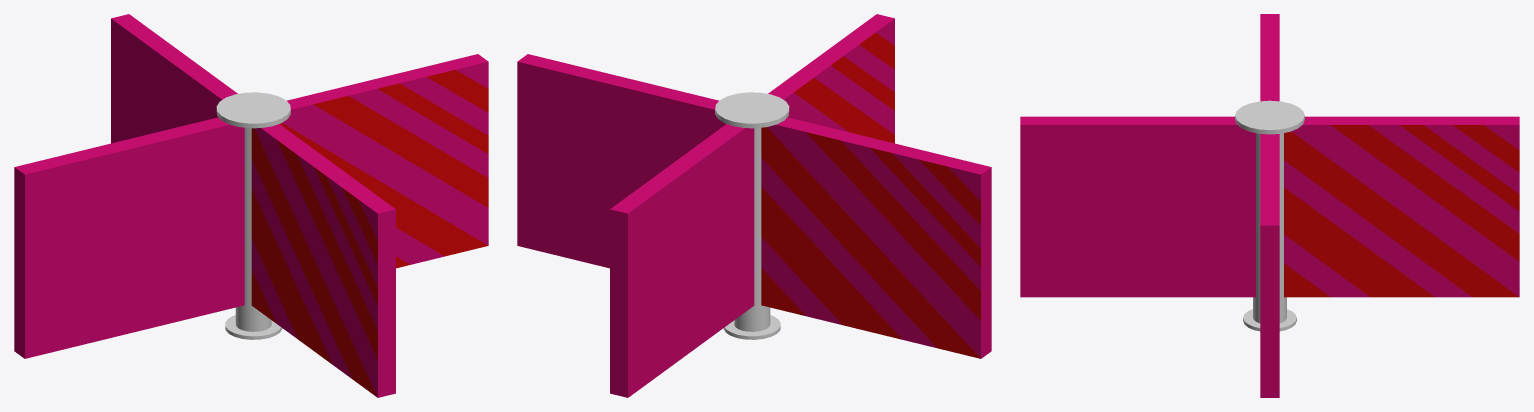
Rendered from trompo_id_mesh.fbx.
3 renders of one model, left to right at view 1: azimuth 30°, elevation 25°; view 2: azimuth 150°, elevation 25°; view 3: azimuth 270°, elevation 25°, orthographic. The views are drawn at different scales.
Parts seen in each view (by area): view 1: Pared5, Pared7, Pared1, Pared6, CabezaCilidro, CilindroMedio, ParteBajaCilindro; view 2: Pared5, Pared6, Pared1, Pared7, CabezaCilidro, CilindroMedio, ParteBajaCilindro; view 3: Pared6, Pared7, Pared1, CilindroMedio, CabezaCilidro, Pared5, ParteBajaCilindro.
Boxes of the visible parts, x1,y1,x2,y2 form: Pared5: (14, 117, 244, 358); Pared7: (251, 124, 395, 397); Pared1: (280, 54, 488, 268); Pared6: (111, 14, 237, 143); CabezaCilidro: (216, 92, 290, 128); CilindroMedio: (235, 128, 271, 331); ParteBajaCilindro: (225, 315, 282, 339); Pared5: (761, 117, 991, 358); Pared6: (610, 124, 754, 397); Pared1: (517, 54, 725, 268); Pared7: (768, 14, 894, 143); CabezaCilidro: (715, 92, 789, 128); CilindroMedio: (734, 128, 770, 331); ParteBajaCilindro: (723, 315, 780, 339); Pared6: (1284, 116, 1519, 297); Pared7: (1020, 116, 1255, 297); Pared1: (1260, 134, 1279, 397); CilindroMedio: (1253, 133, 1286, 323); CabezaCilidro: (1235, 100, 1304, 134); Pared5: (1260, 14, 1279, 101); ParteBajaCilindro: (1243, 309, 1296, 331).
Bounding box in the file's own units: 4.12 × 1.87 × 4.11.
